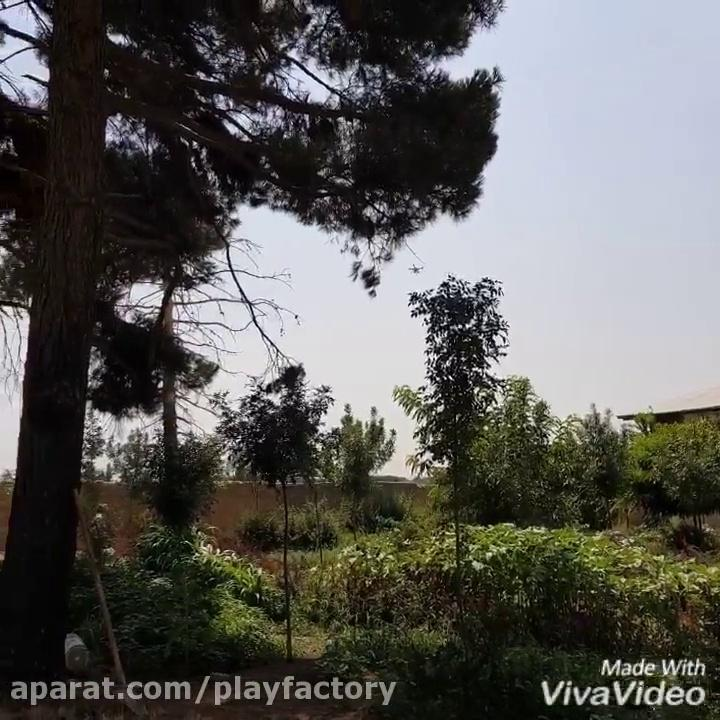drone: (406, 262, 424, 277)
